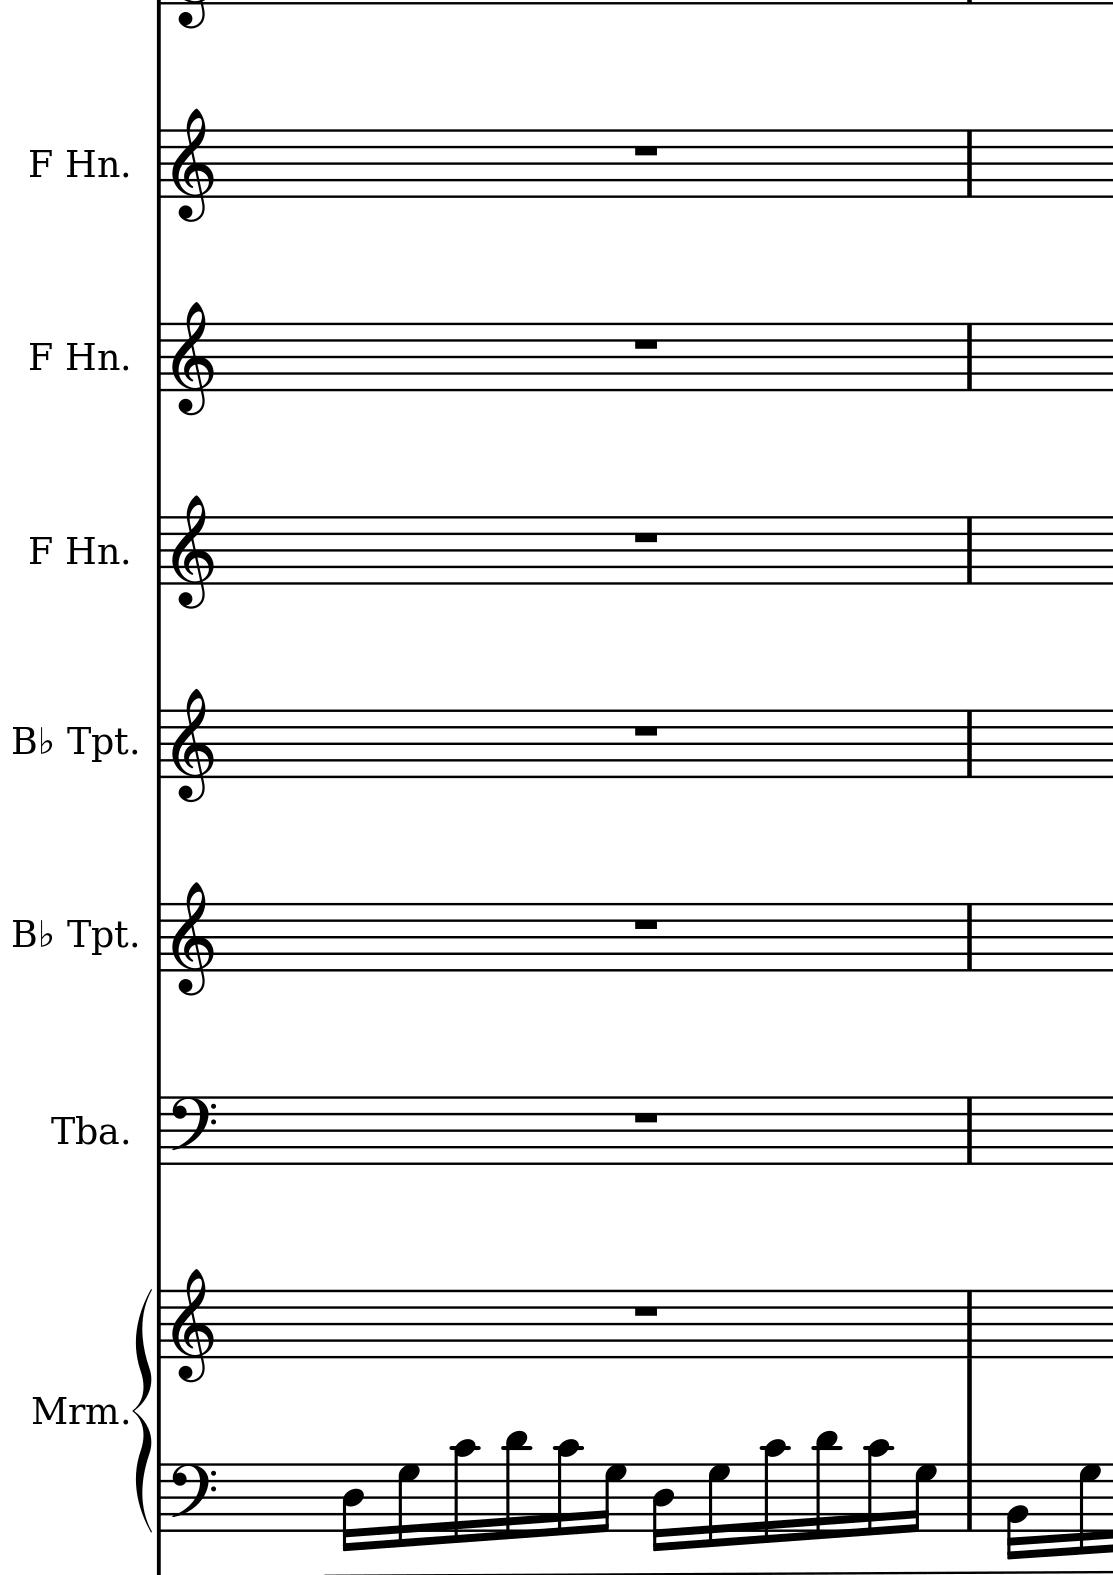16_10: (761, 1438, 791, 1542), (450, 1437, 479, 1544), (864, 1438, 893, 1538), (555, 1437, 582, 1536)
16_11: (812, 1431, 841, 1540), (503, 1429, 531, 1541)
16_2: (1005, 1462, 1029, 1561)
16_4: (340, 1462, 365, 1552), (650, 1462, 676, 1552)
16_7: (1077, 1461, 1106, 1555), (594, 1462, 628, 1536), (907, 1463, 940, 1533), (707, 1461, 732, 1547), (396, 1461, 422, 1546)
Brace: (131, 1286, 153, 1536)
Fclef: (171, 1095, 220, 1168), (167, 1463, 217, 1534)
Gclef: (170, 488, 217, 610), (170, 688, 217, 808), (170, 300, 218, 415), (170, 108, 218, 222), (170, 880, 217, 996), (172, 1266, 212, 1390)
Hn: (64, 529, 117, 573), (63, 334, 122, 372), (64, 146, 120, 185)
Rests1: (628, 334, 664, 355), (628, 1108, 662, 1128), (631, 719, 661, 741), (630, 140, 664, 158), (631, 526, 662, 545), (632, 915, 662, 934), (634, 1300, 660, 1322)
Single_barline: (955, 126, 979, 197), (956, 1459, 980, 1530), (956, 1290, 979, 1357), (147, 709, 169, 779), (956, 515, 978, 585), (956, 904, 978, 973), (956, 709, 978, 778), (956, 1097, 978, 1166), (958, 322, 979, 390), (148, 907, 170, 973), (148, 517, 169, 586), (149, 323, 170, 393), (151, 1288, 169, 1362), (149, 1102, 170, 1166), (149, 131, 169, 199), (151, 1462, 167, 1534)
Tba: (47, 1111, 120, 1148)
Tpt: (66, 716, 132, 766), (65, 913, 129, 957)
